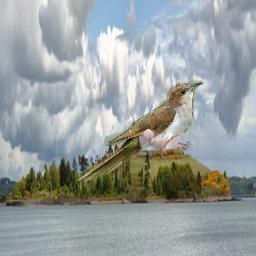Cuckoo: (76, 80, 203, 181)
